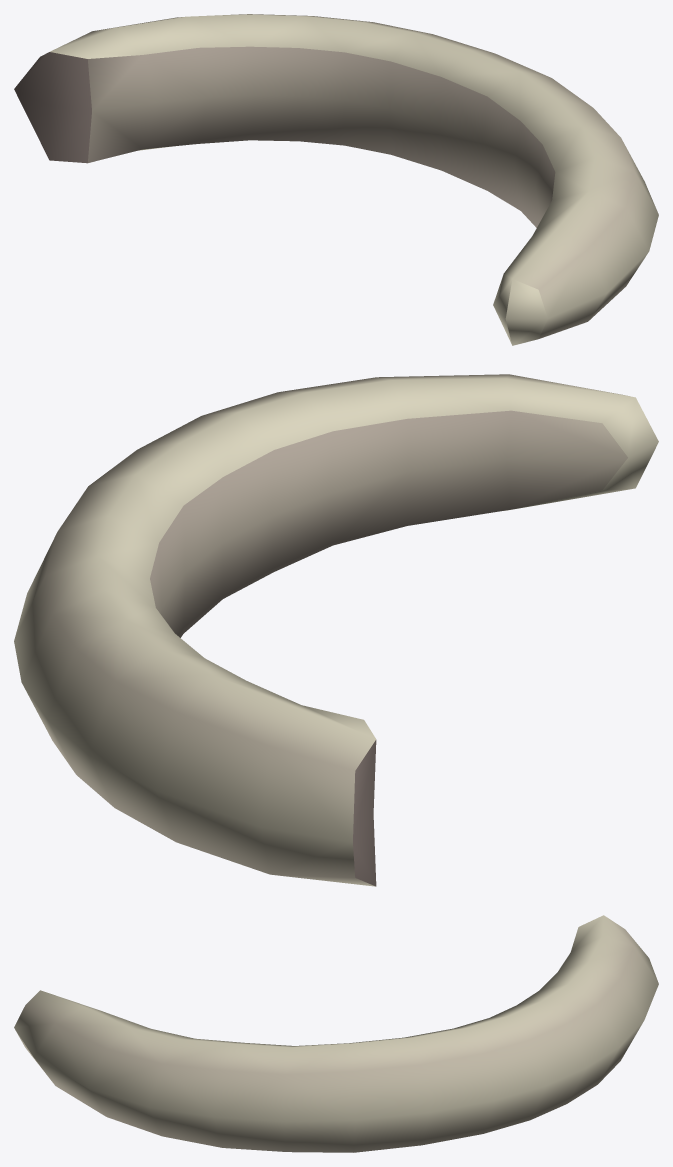
The model's file is animals-animalparts-tooth_v4.glb.
3 views of the same model, one above another, from view 1: azimuth 30°, elevation 25°; view 2: azimuth 150°, elevation 25°; view 3: azimuth 270°, elevation 25° (orthographic). The views are drawn at different scales.
Parts seen in each view (by area): view 1: Tooth_v4; view 2: Tooth_v4; view 3: Tooth_v4.
Part boxes in pixels (x1,y1,x2,y2): Tooth_v4: [14, 14, 658, 345]; Tooth_v4: [14, 374, 658, 886]; Tooth_v4: [14, 915, 658, 1152].
Size of the model in its own units: 0.2494 by 0.0785 by 0.4157.
